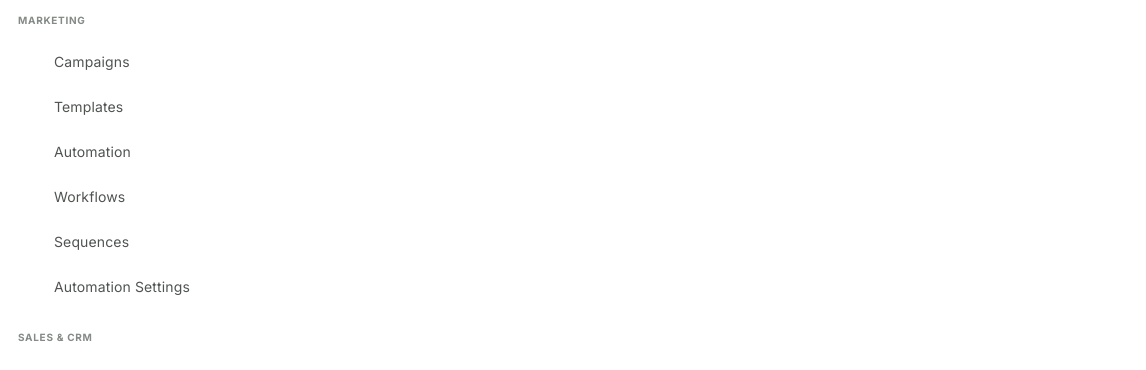
Test: SidebarSection › supports one-open-at-a-time accordion behavior
What coordinates should you click on to do the following:
click the button "Sales & CRM"
I would click on:
 (55, 337)
Its box is [8,321,1129,353].
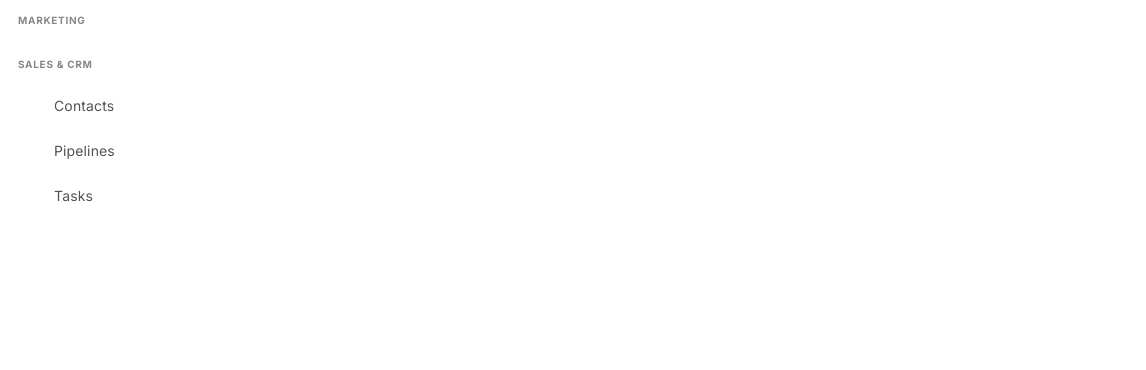
Now the button "Sales & CRM" is expanded, box [8,48,1129,80]
